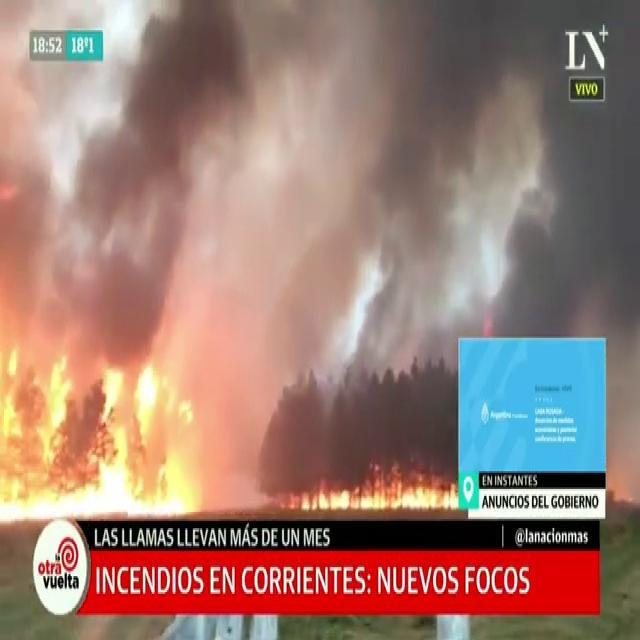Fire: (5, 311, 185, 525), (302, 464, 449, 508)
Smoke: (7, 0, 627, 469), (256, 11, 518, 373), (46, 3, 250, 335)
